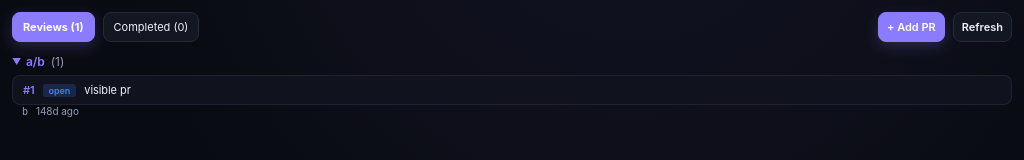
ReviewsPage › collapses/expands a repo group and remembers it via settings
expect the text "visible pr" is shown: met, box [84,83,131,97]
Click the button with test id "reviews-repo-header-a/b": coordinates (38, 62) [12,54,64,69]
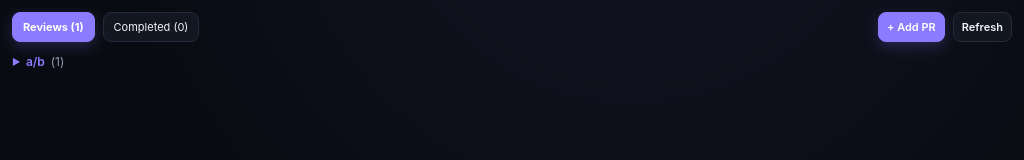
expect the text "visible pr" is gone: met
Click the button with test id "reviews-repo-header-a/b": coordinates (38, 62) [12,54,64,69]
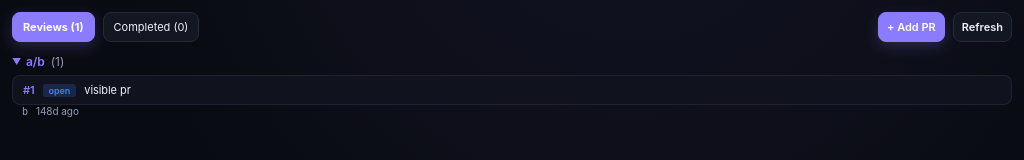
expect the text "visible pr" is shown: met, box [84,83,131,97]
